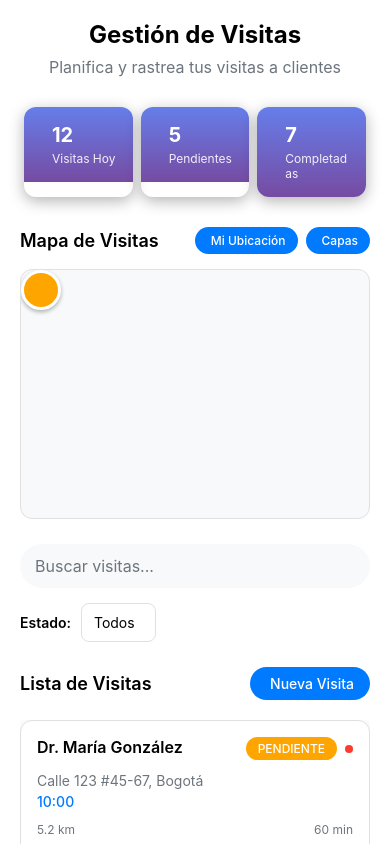
it: VisitsScreen › New Visit Modal › opens new visit modal when button is pressed
The image size is (390, 844).
Check: the text "Cliente *" is not shown
# Presionar el botón de nueva visita (usar el primero)
Step 1. Click the text "Nueva Visita" → point(312, 684), box 270,675 -> 354,692
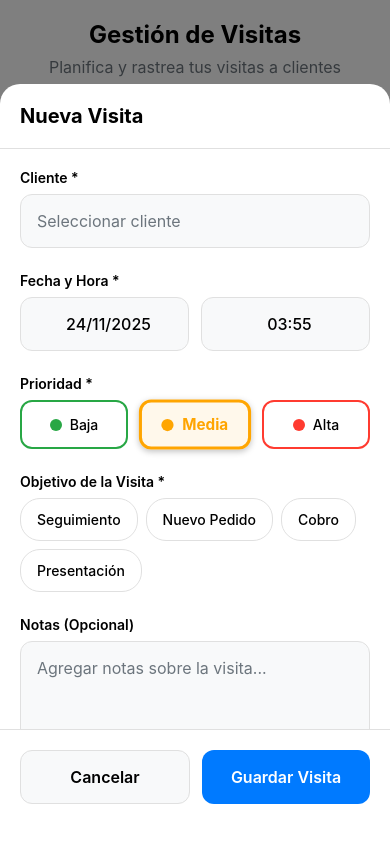
Check: the text "Cliente *" is shown, box 20,169 -> 79,186
Check: the text "Fecha y Hora *" is shown, box 20,272 -> 120,289
Check: the text "Prioridad *" is shown, box 20,375 -> 93,392
